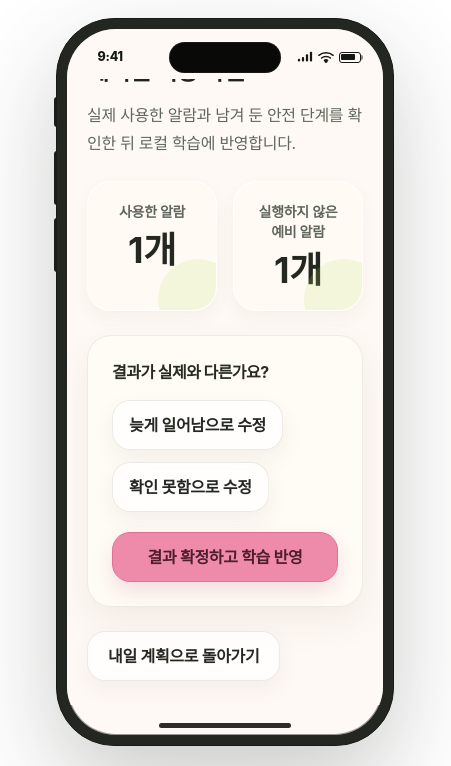
it: WakeResultReview › shows used alarms and applies one local learning update
(page scrolled)
Expected: the text "1개" is shown 2 times, [128,228,176,272]; [274,248,322,292]
Click the button "결과 확정하고 학습 반영" at (225, 557), box [112,532,338,582]
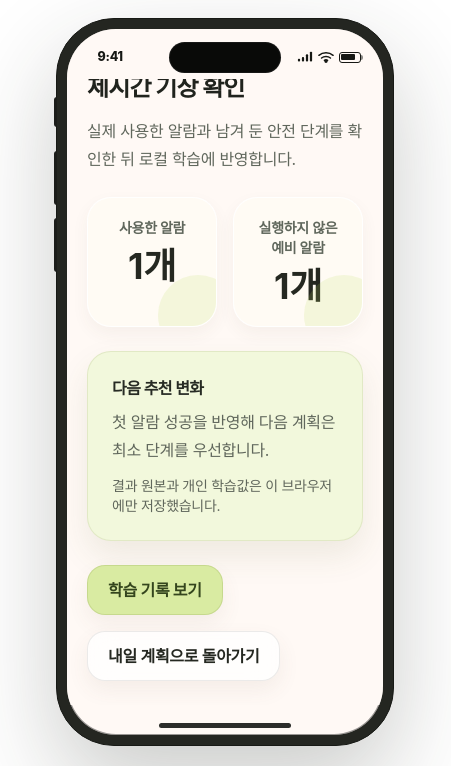
Expected: the heading "다음 추천 변화" is shown, [112,378,204,398]
Expected: the text "결과 원본과 개인 학습값은 이 브라우저에만 저장했습니다." is shown, [112,476,338,516]
